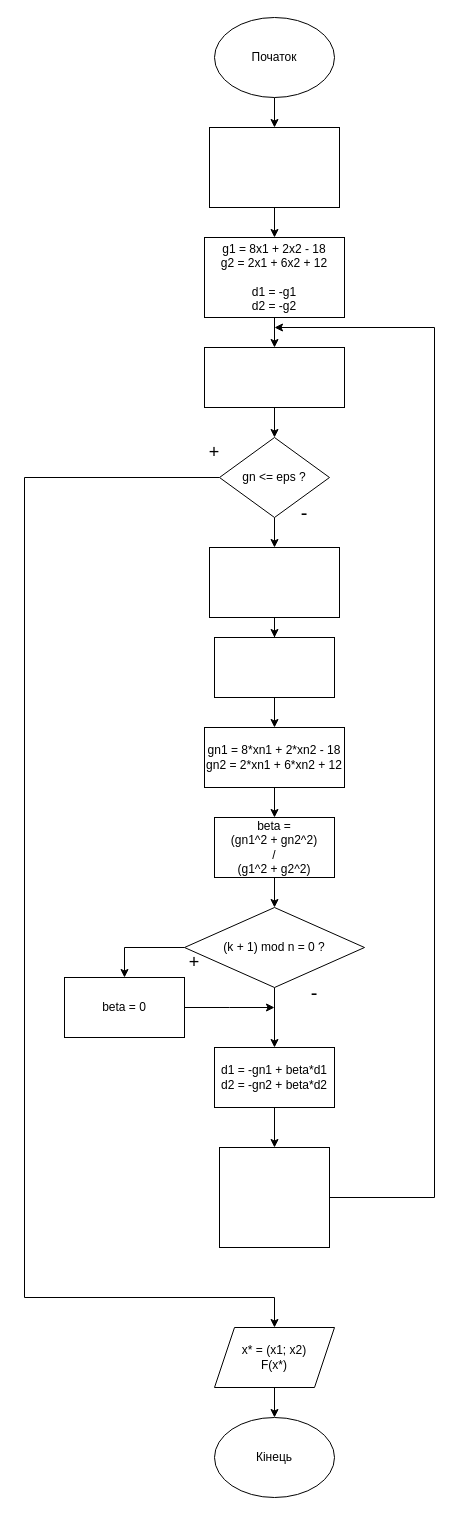
The diagram is 460 pixels wide and 1515 high, and some of its shapes have lost their labels. The centre of each missing label's shape, as x and y in pixels:
"gn = sqrt(g1^2 + g2^2)" belongs at (274,377).
"h = arg min F(x + h*d) Свенн -> [a; b] Золотий переріз" belongs at (274,582).
"x1 = 9 x2 = 0 eps = 0.01 n = 2 k = 0" belongs at (274,167).
"x1 = xn1 x2 = xn2 g1 = gn1 g2 = gn2 k = k + 1" belongs at (274,1197).
"xn1 = x1 + h*d1 xn2 = x2 + h*d2" belongs at (274,667).
